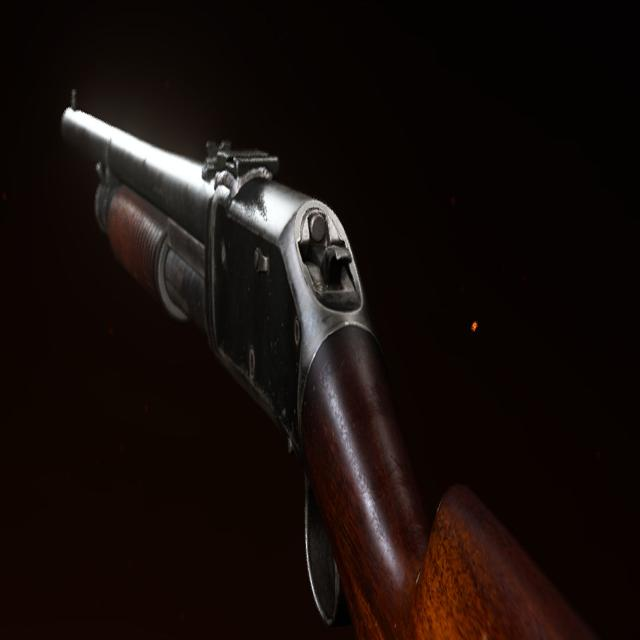Weapon: (62, 90, 600, 640)
